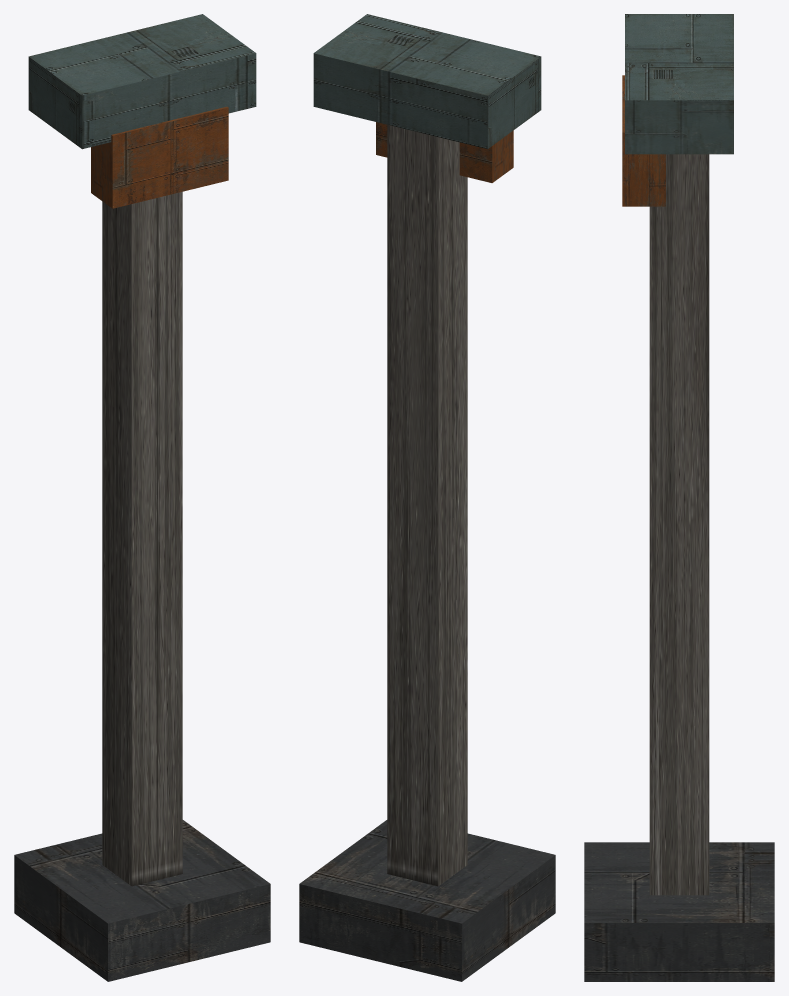
The model's file is lamp-post.gltf.
3 renders of one model, left to right at view 1: azimuth 30°, elevation 25°; view 2: azimuth 150°, elevation 25°; view 3: azimuth 270°, elevation 25°, orthographic.
Visible parts, largest first — view 1: lamp-post; view 2: lamp-post; view 3: lamp-post.
Boxes of the visible parts, box(x1,y1,x2,y2) form: lamp-post: box(14, 14, 270, 981); lamp-post: box(299, 14, 555, 981); lamp-post: box(584, 14, 774, 981).
Bounding box in the file's own units: 0.75 × 3.59 × 0.7.
1 material, 1 textured.
